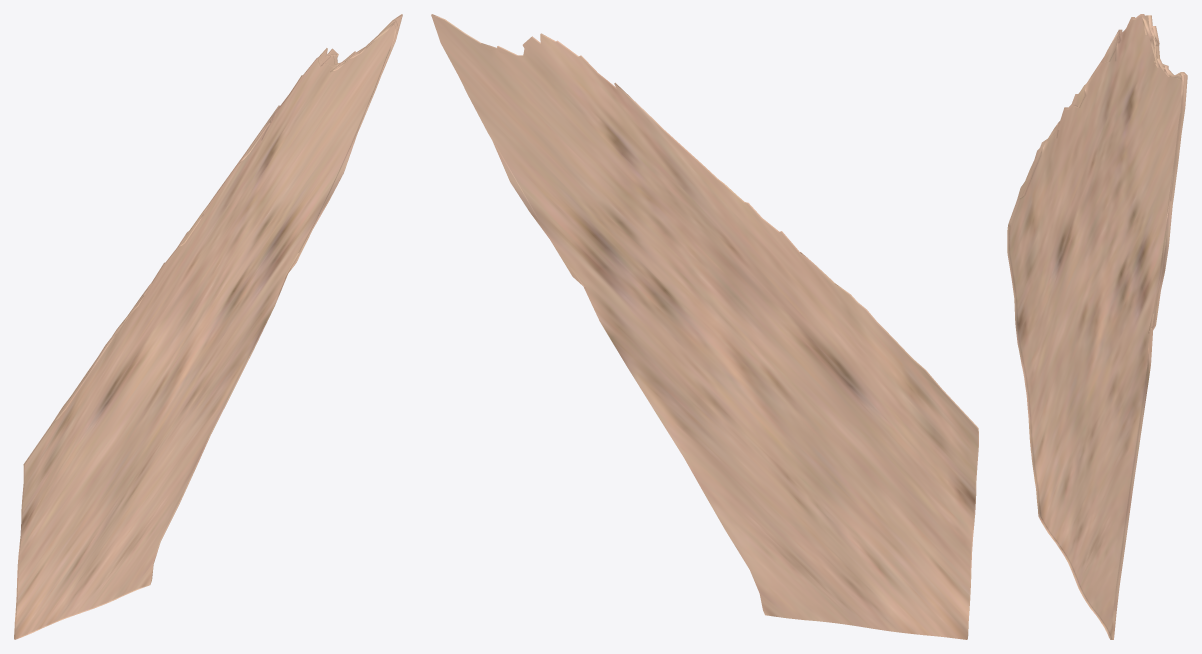
The picture shows the model from 3 angles, left to right: view 1: azimuth 30°, elevation 25°; view 2: azimuth 150°, elevation 25°; view 3: azimuth 270°, elevation 25°; orthographic projection. The views are drawn at different scales.
Size of the model in its own units: 15.59 by 16.71 by 3.51.
Materials: 1 (1 with a texture image).
